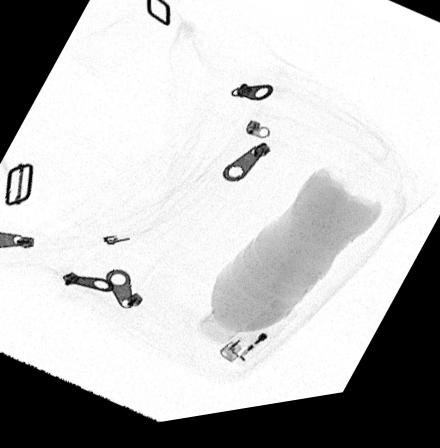Lighter: (218, 309, 297, 375)
